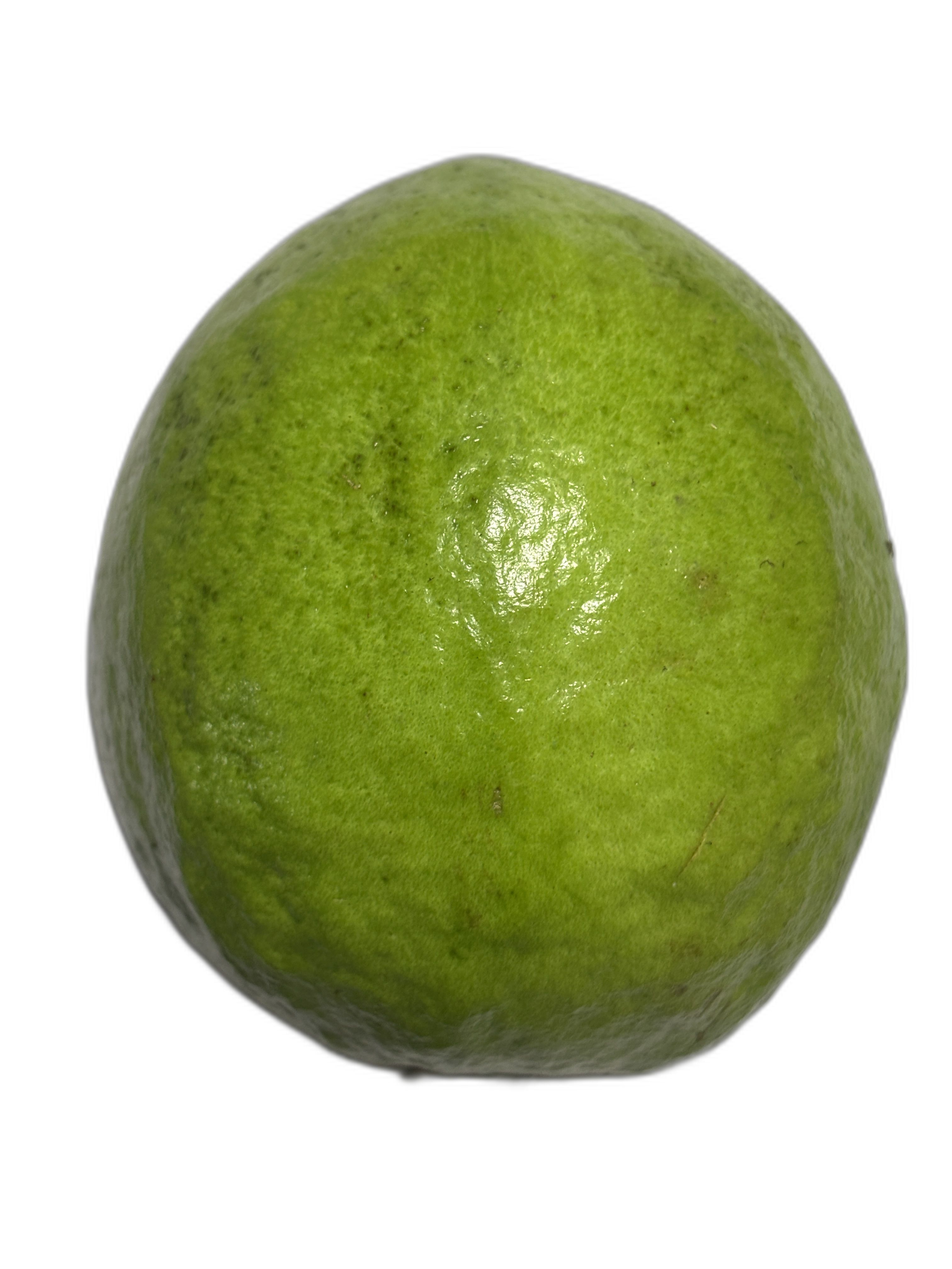guava: (216, 214, 891, 1053)
